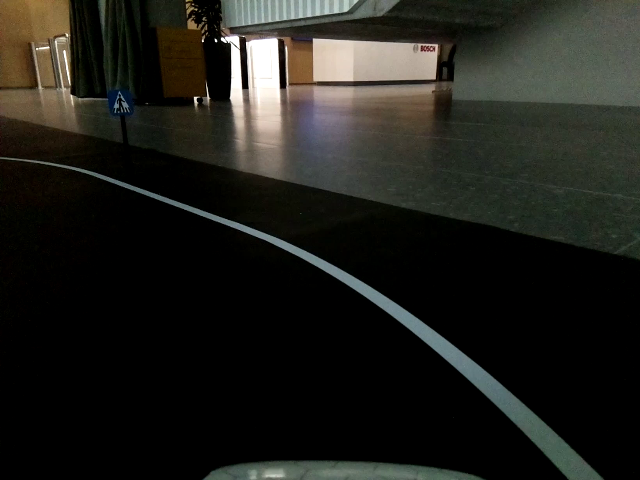pedestrians: (107, 89, 134, 116)
